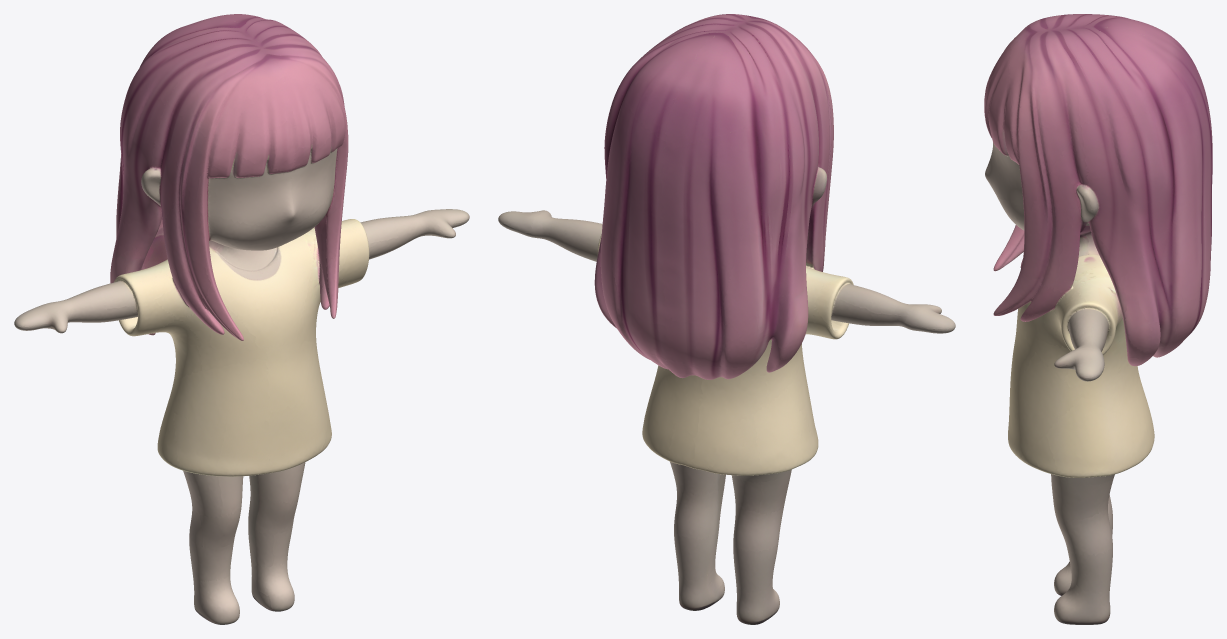
Rendered from baked_hair_pink.glb.
The picture shows the model from 3 angles, left to right: view 1: azimuth 30°, elevation 25°; view 2: azimuth 150°, elevation 25°; view 3: azimuth 270°, elevation 25°; orthographic projection.
Size of the model in its own units: 1.56 by 1.9 by 0.6767.
1 material, 1 textured.
